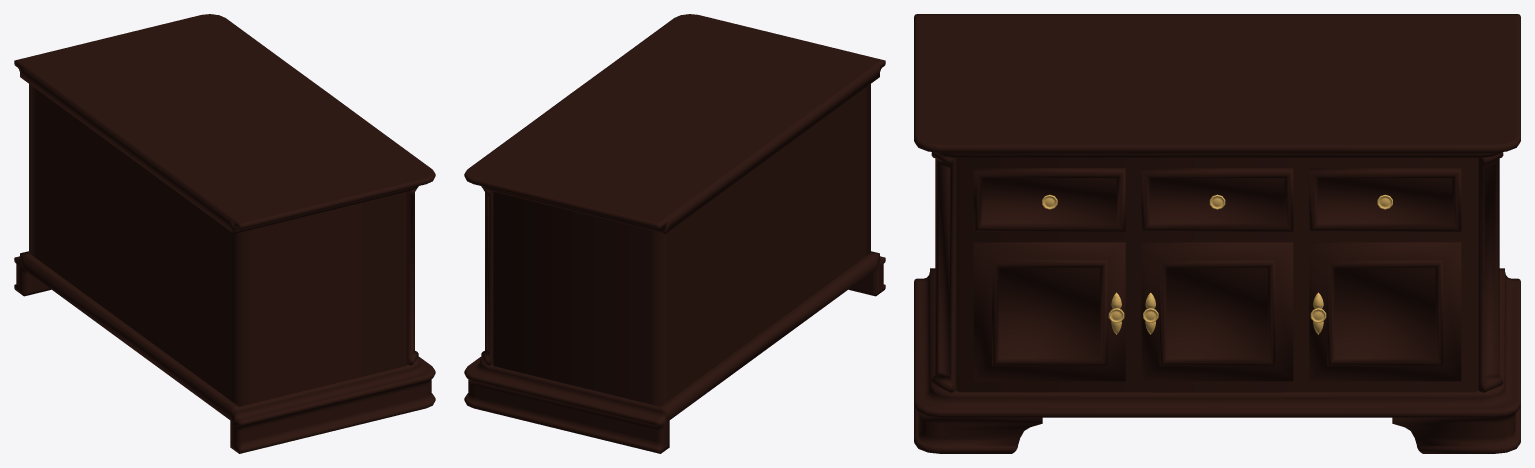
Rendered from Buffet.fbx.
The picture shows the model from 3 angles, left to right: view 1: azimuth 30°, elevation 25°; view 2: azimuth 150°, elevation 25°; view 3: azimuth 270°, elevation 25°; orthographic projection. The views are drawn at different scales.
Visible parts, largest first — view 1: Base; view 2: Base; view 3: Base.
Part boxes in pixels (x1,y1,x2,y2): Base: [14, 14, 435, 453]; Base: [464, 14, 885, 453]; Base: [914, 14, 1520, 453].
Size of the model in its own units: 132 by 144 by 256.
